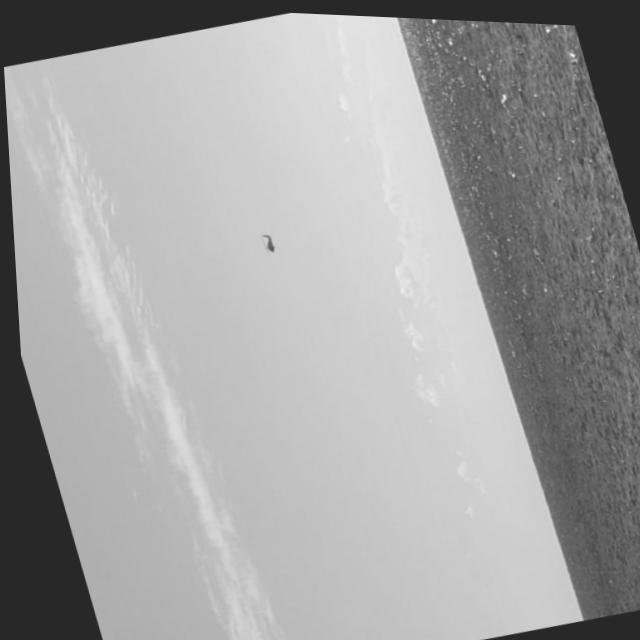helikopter: (220, 174, 323, 278)
